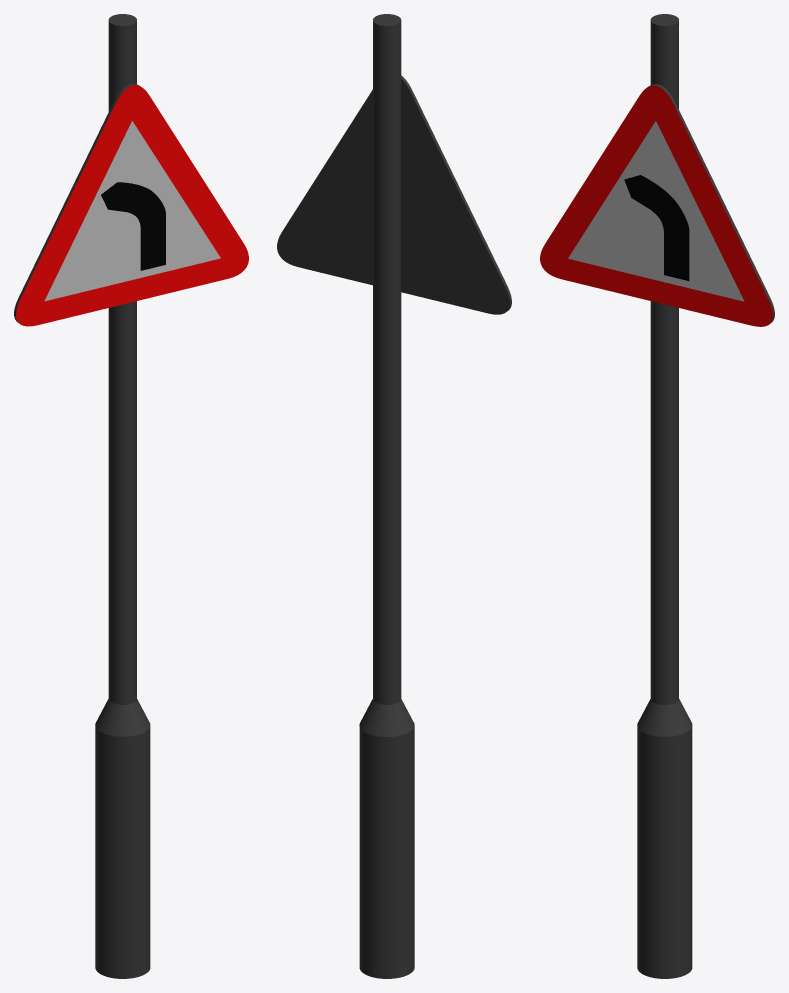
File: turn left sign.obj
3 renders of one model, left to right at view 1: azimuth 30°, elevation 25°; view 2: azimuth 150°, elevation 25°; view 3: azimuth 330°, elevation 25°, orthographic.
Visible parts, largest first — view 1: Object04; view 2: Object04; view 3: Object04.
Boxes of the visible parts, x1,y1,x2,y2 form: Object04: (14,14,248,978); Object04: (277,14,511,978); Object04: (540,14,774,978).
Bounding box in the file's own units: 26.64 × 104 × 5.49.
